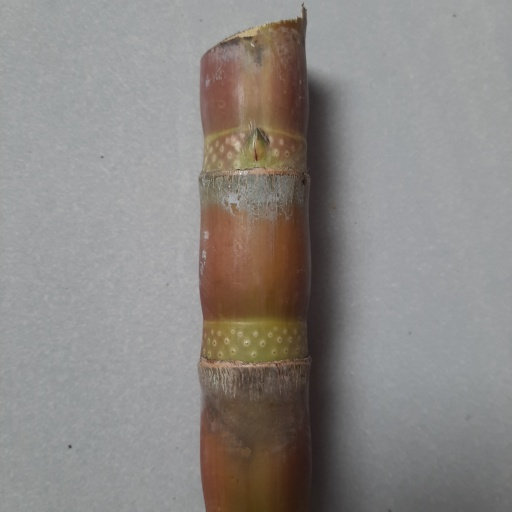Bud: (243, 127, 270, 165)
